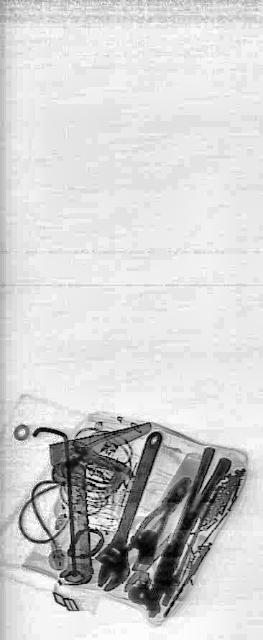Knife: (48, 416, 158, 590)
Pliers: (123, 458, 193, 578)
Wrench: (89, 404, 168, 612)
